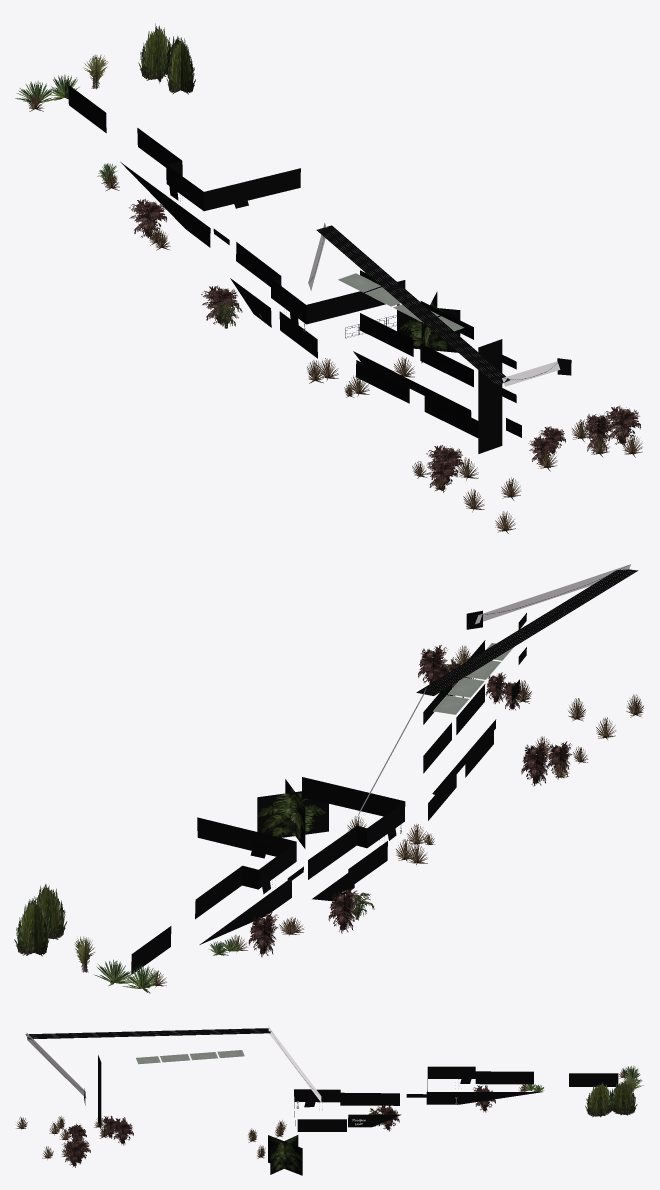
The model's file is coastapt_alpha.obj.
The picture shows the model from 3 angles, top to bottom: view 1: azimuth 30°, elevation 25°; view 2: azimuth 150°, elevation 25°; view 3: azimuth 270°, elevation 25°; orthographic projection. The views are drawn at different scales.
Visible parts, largest first — view 1: coastapt_alpha; view 2: coastapt_alpha; view 3: coastapt_alpha.
Part boxes in pixels (x1,y1,x2,y2): coastapt_alpha: [15, 23, 642, 533]; coastapt_alpha: [14, 564, 643, 993]; coastapt_alpha: [16, 1026, 643, 1175].
Size of the model in its own units: 22.79 by 20.75 by 101.
